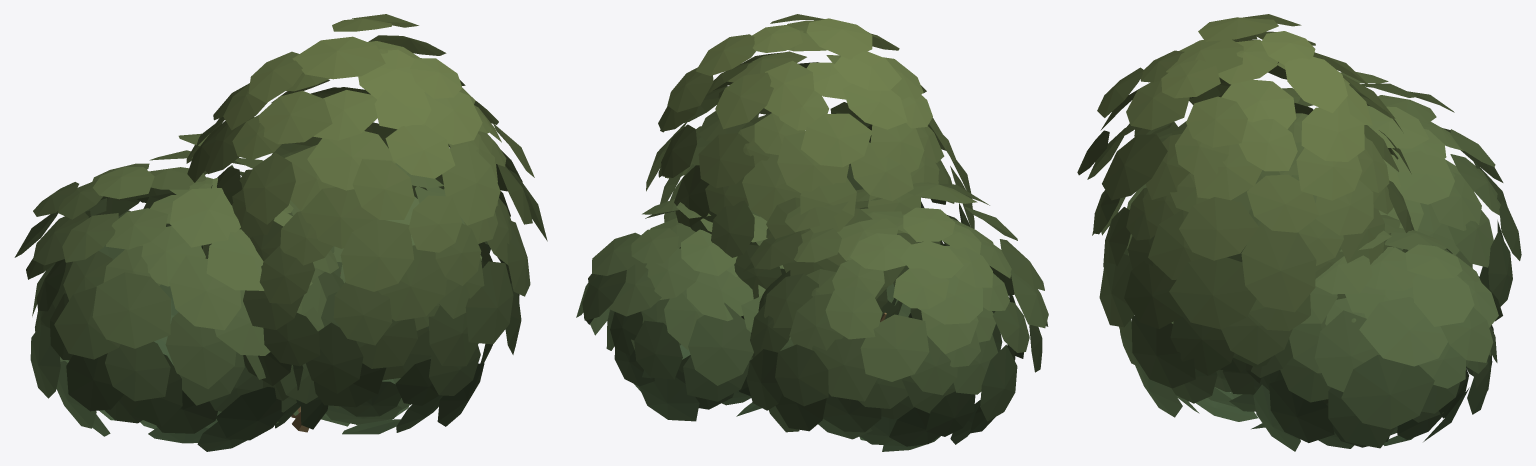
File: dressing-bush-c.glb
The picture shows the model from 3 angles, left to right: view 1: azimuth 30°, elevation 25°; view 2: azimuth 150°, elevation 25°; view 3: azimuth 270°, elevation 25°; orthographic projection. The views are drawn at different scales.
Parts seen in each view (by area): view 1: bush-broad-folded-leaves; view 2: bush-broad-folded-leaves; view 3: bush-broad-folded-leaves.
Boxes of the visible parts, left/top/right/bottom form: bush-broad-folded-leaves: left=14, top=14, right=547, bottom=451; bush-broad-folded-leaves: left=576, top=14, right=1048, bottom=451; bush-broad-folded-leaves: left=1077, top=14, right=1521, bottom=451.
Size of the model in its own units: 1.93 by 1.58 by 1.64.
